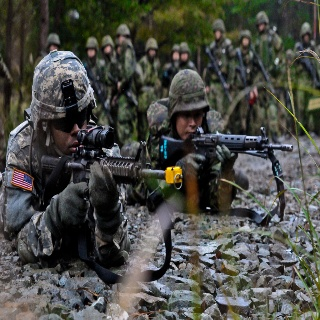rifle: (41, 126, 184, 206), (158, 125, 295, 170)
